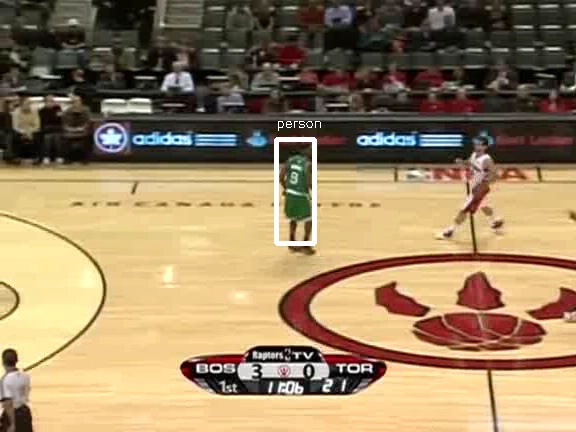person: (281, 149, 315, 230), (280, 149, 314, 230), (282, 149, 316, 230), (281, 148, 315, 229), (281, 150, 315, 231)
target_negative: (334, 37, 569, 247), (426, 86, 512, 225), (471, 265, 536, 322), (41, 171, 52, 380), (482, 219, 493, 309), (200, 342, 383, 346)
